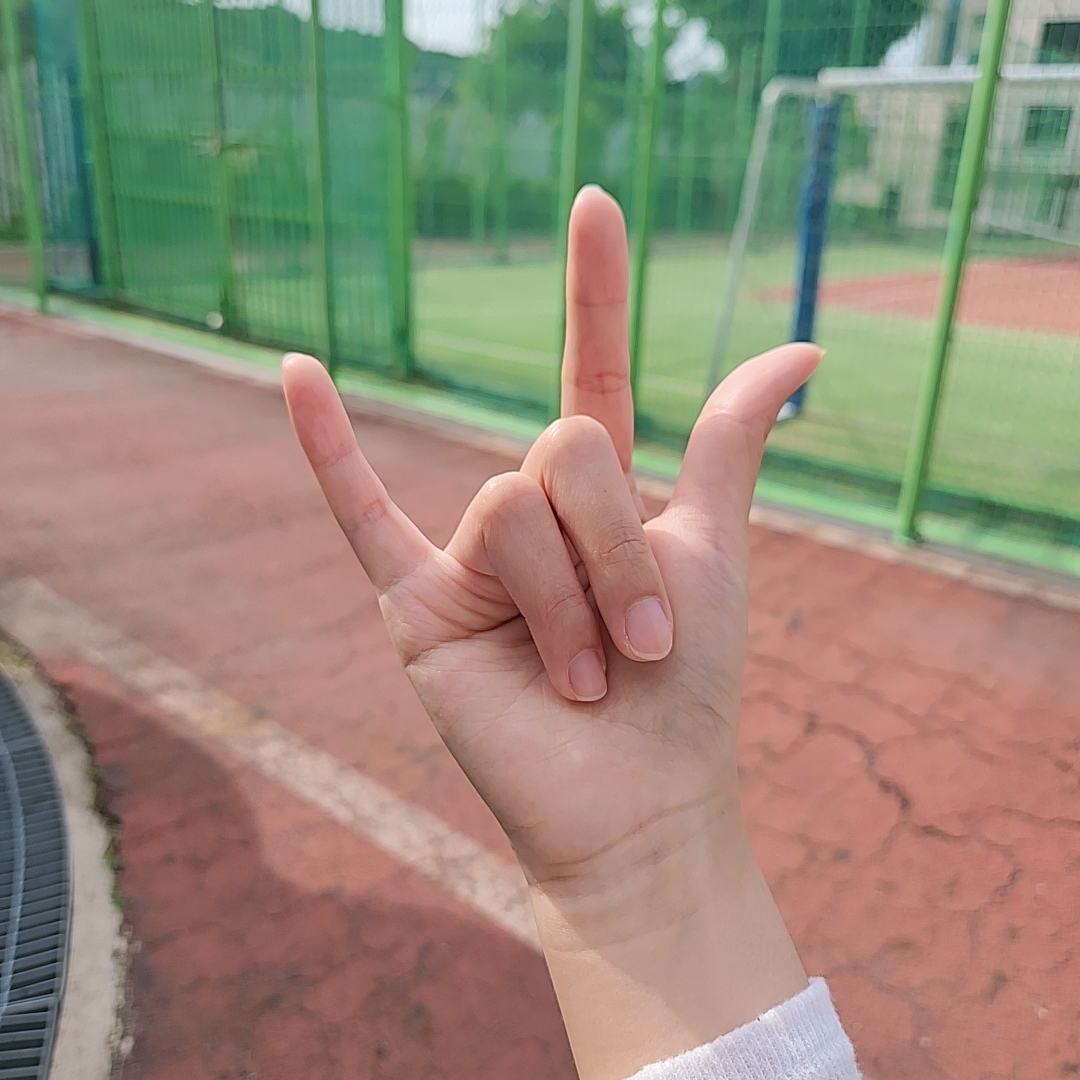iloveyou: (282, 182, 826, 843)
